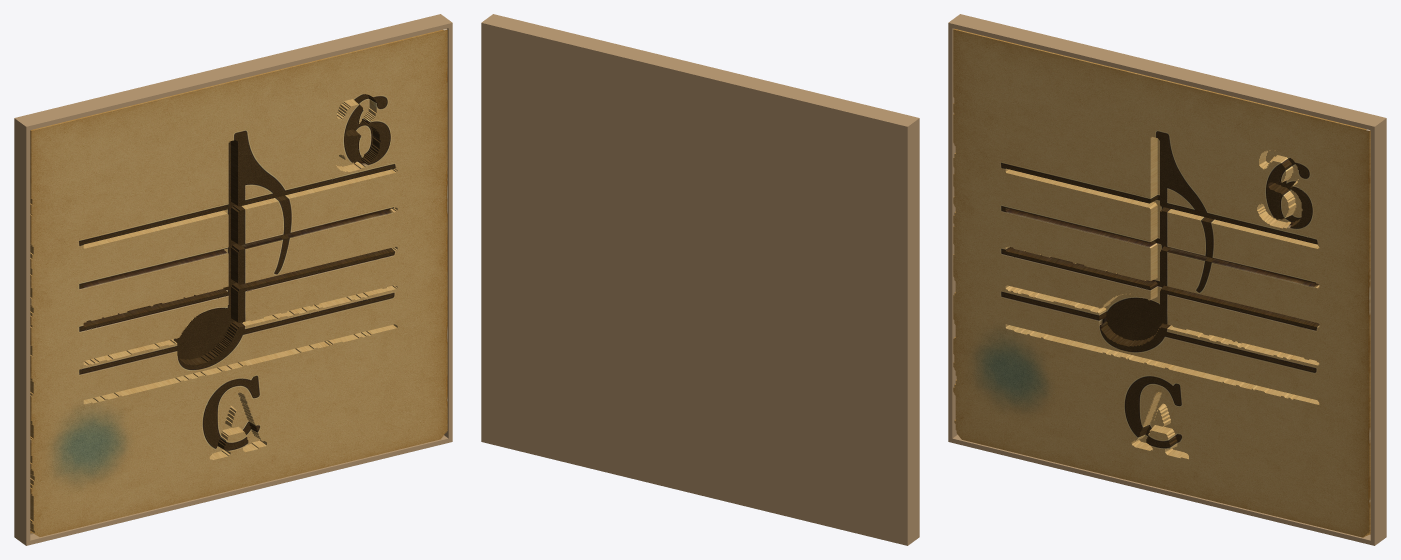
The model's file is note3a.fbx.
The picture shows the model from 3 angles, left to right: view 1: azimuth 30°, elevation 25°; view 2: azimuth 150°, elevation 25°; view 3: azimuth 330°, elevation 25°; orthographic projection.
Parts seen in each view (by area): view 1: meshes[0]; view 2: meshes[0]; view 3: meshes[0].
Boxes of the visible parts, <box> form: meshes[0]: <box>14,14,452,545</box>; meshes[0]: <box>481,14,919,545</box>; meshes[0]: <box>948,14,1386,545</box>.
Size of the model in its own units: 410 by 385 by 20.
